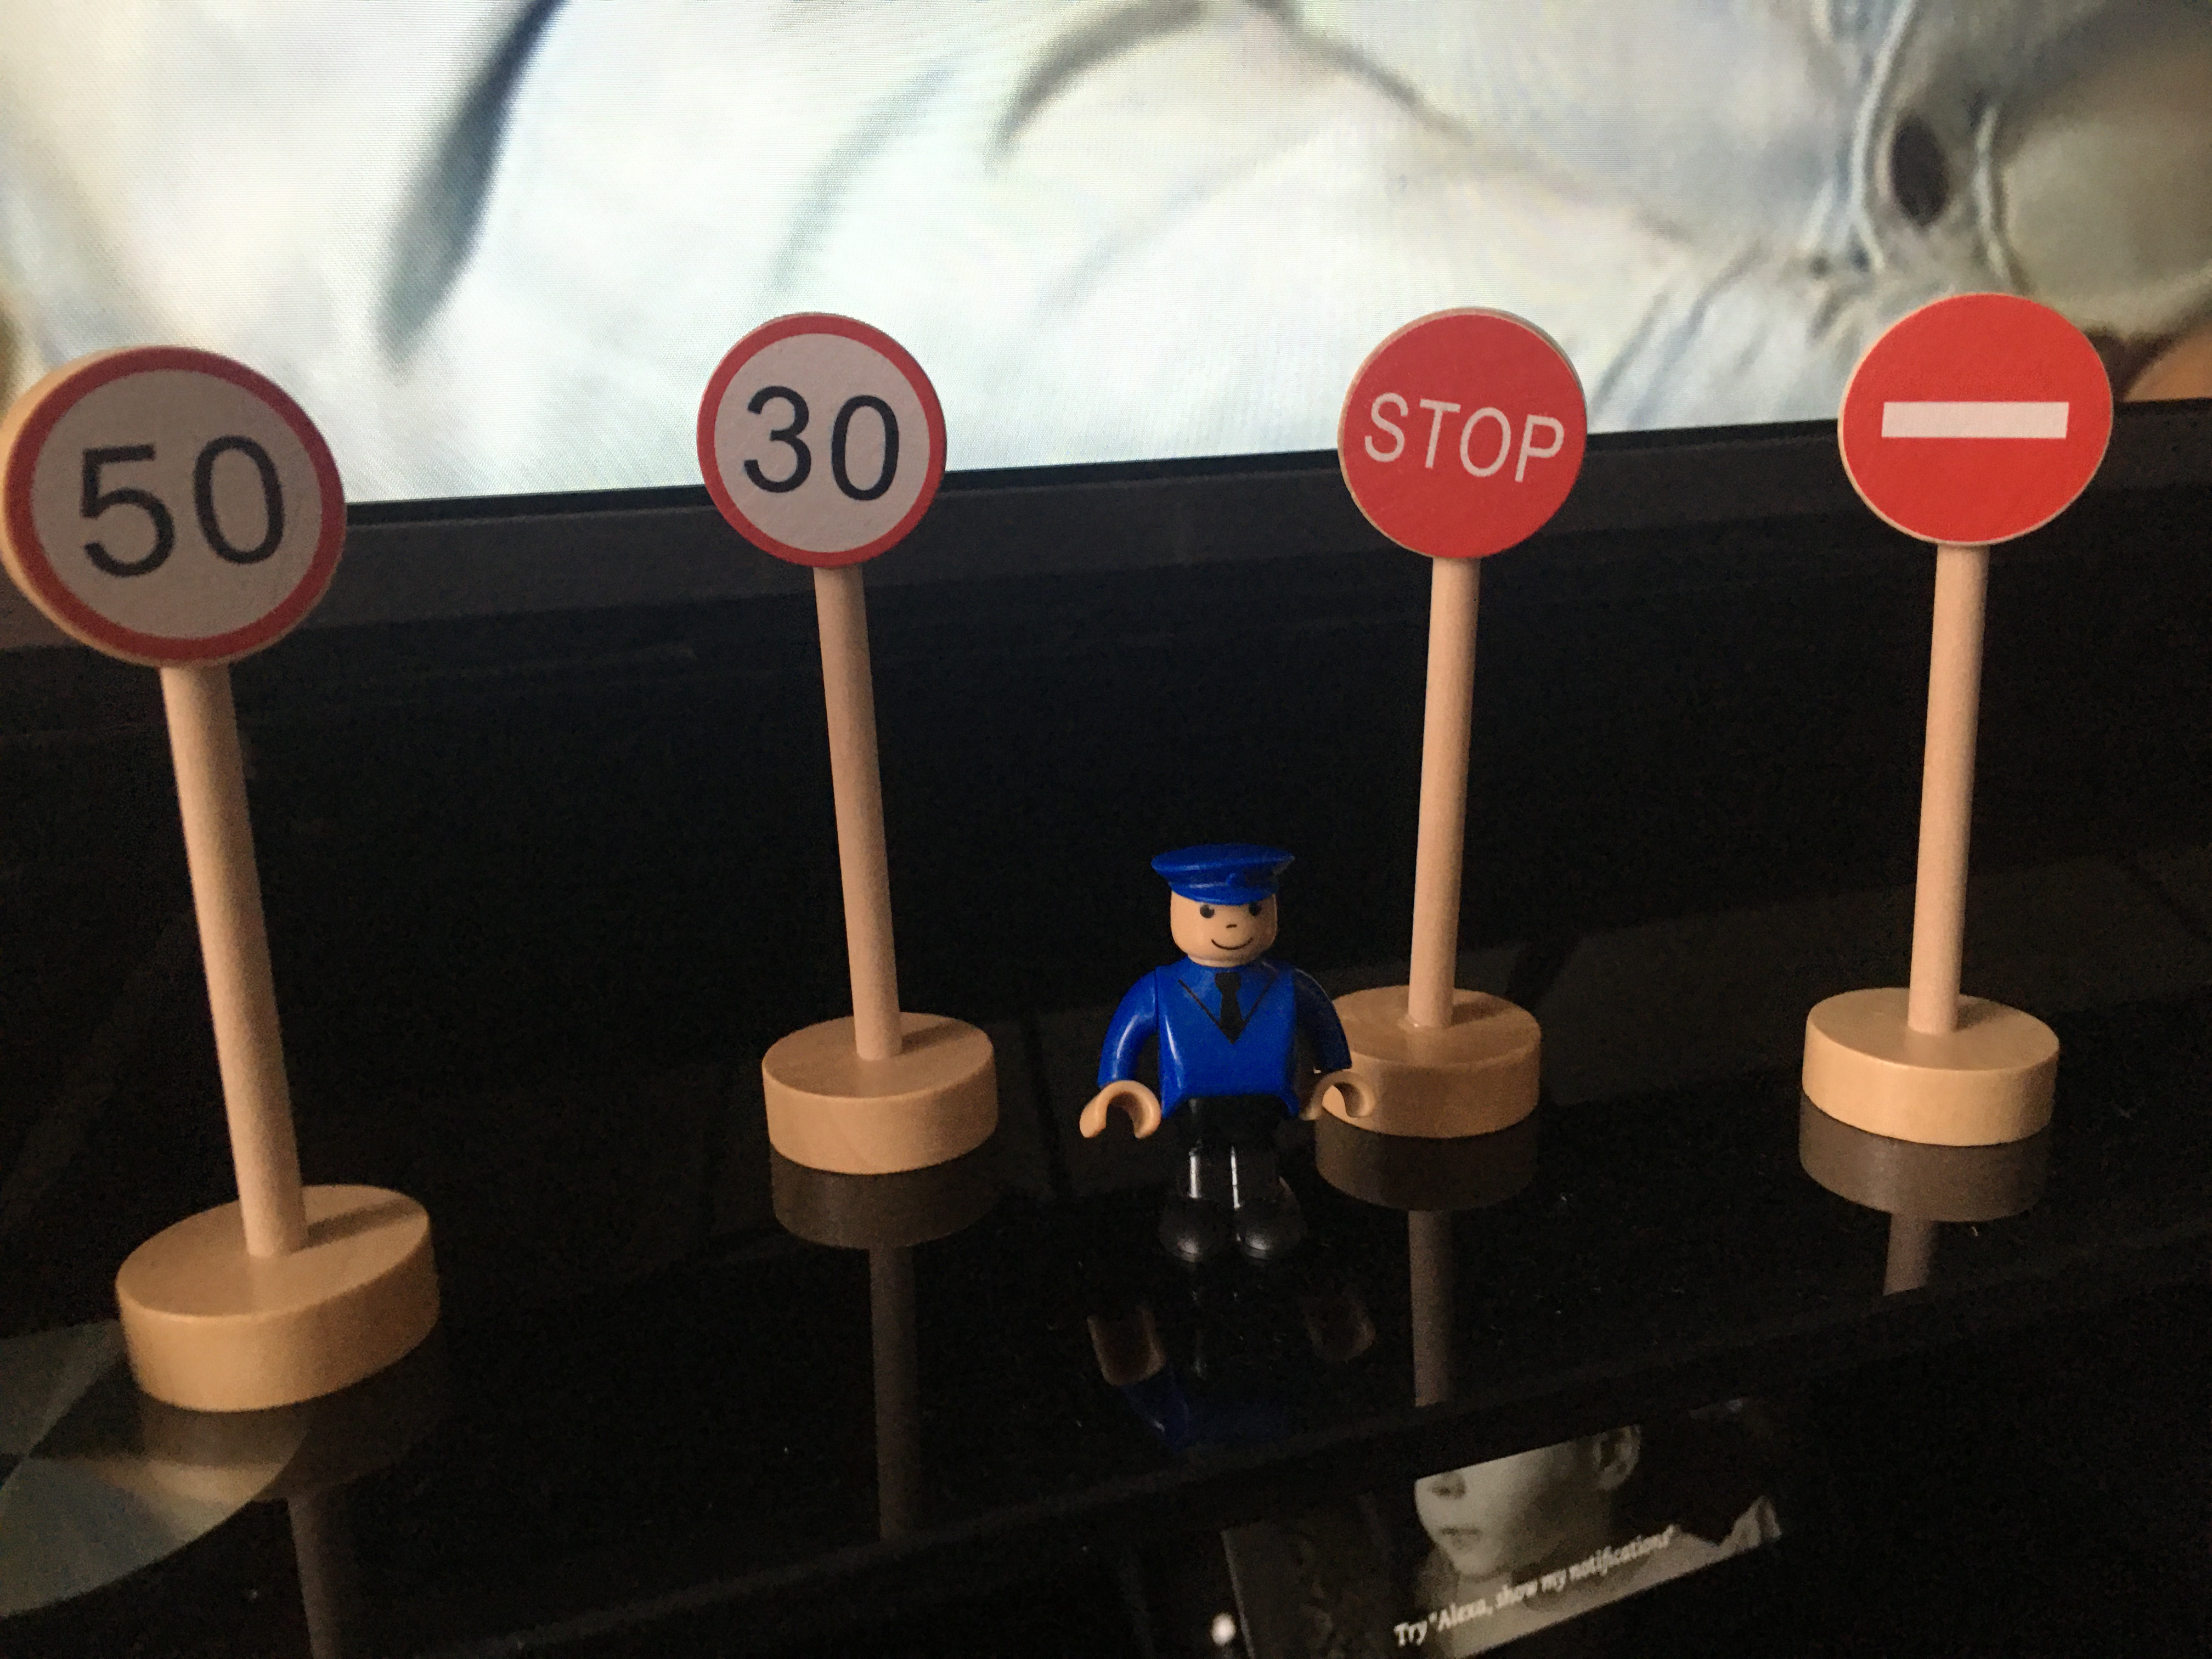Traffic_Sign_30: (698, 312, 947, 572)
Traffic_Sign_50: (2, 348, 351, 662)
Traffic_Sign_No_Entry: (1835, 287, 2120, 546)
Traffic_Sign_Stop: (1340, 308, 1590, 560)
person: (1074, 830, 1377, 1279)
